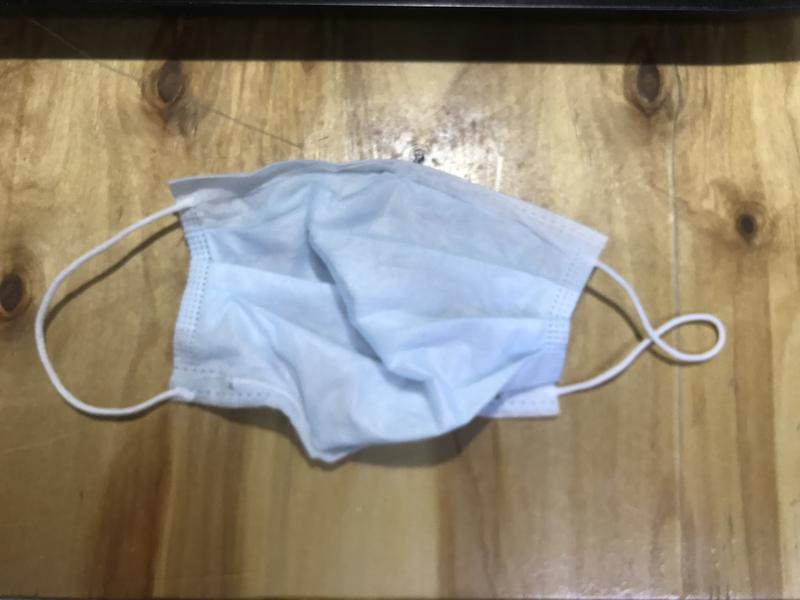medical_mask: (35, 165, 725, 461)
